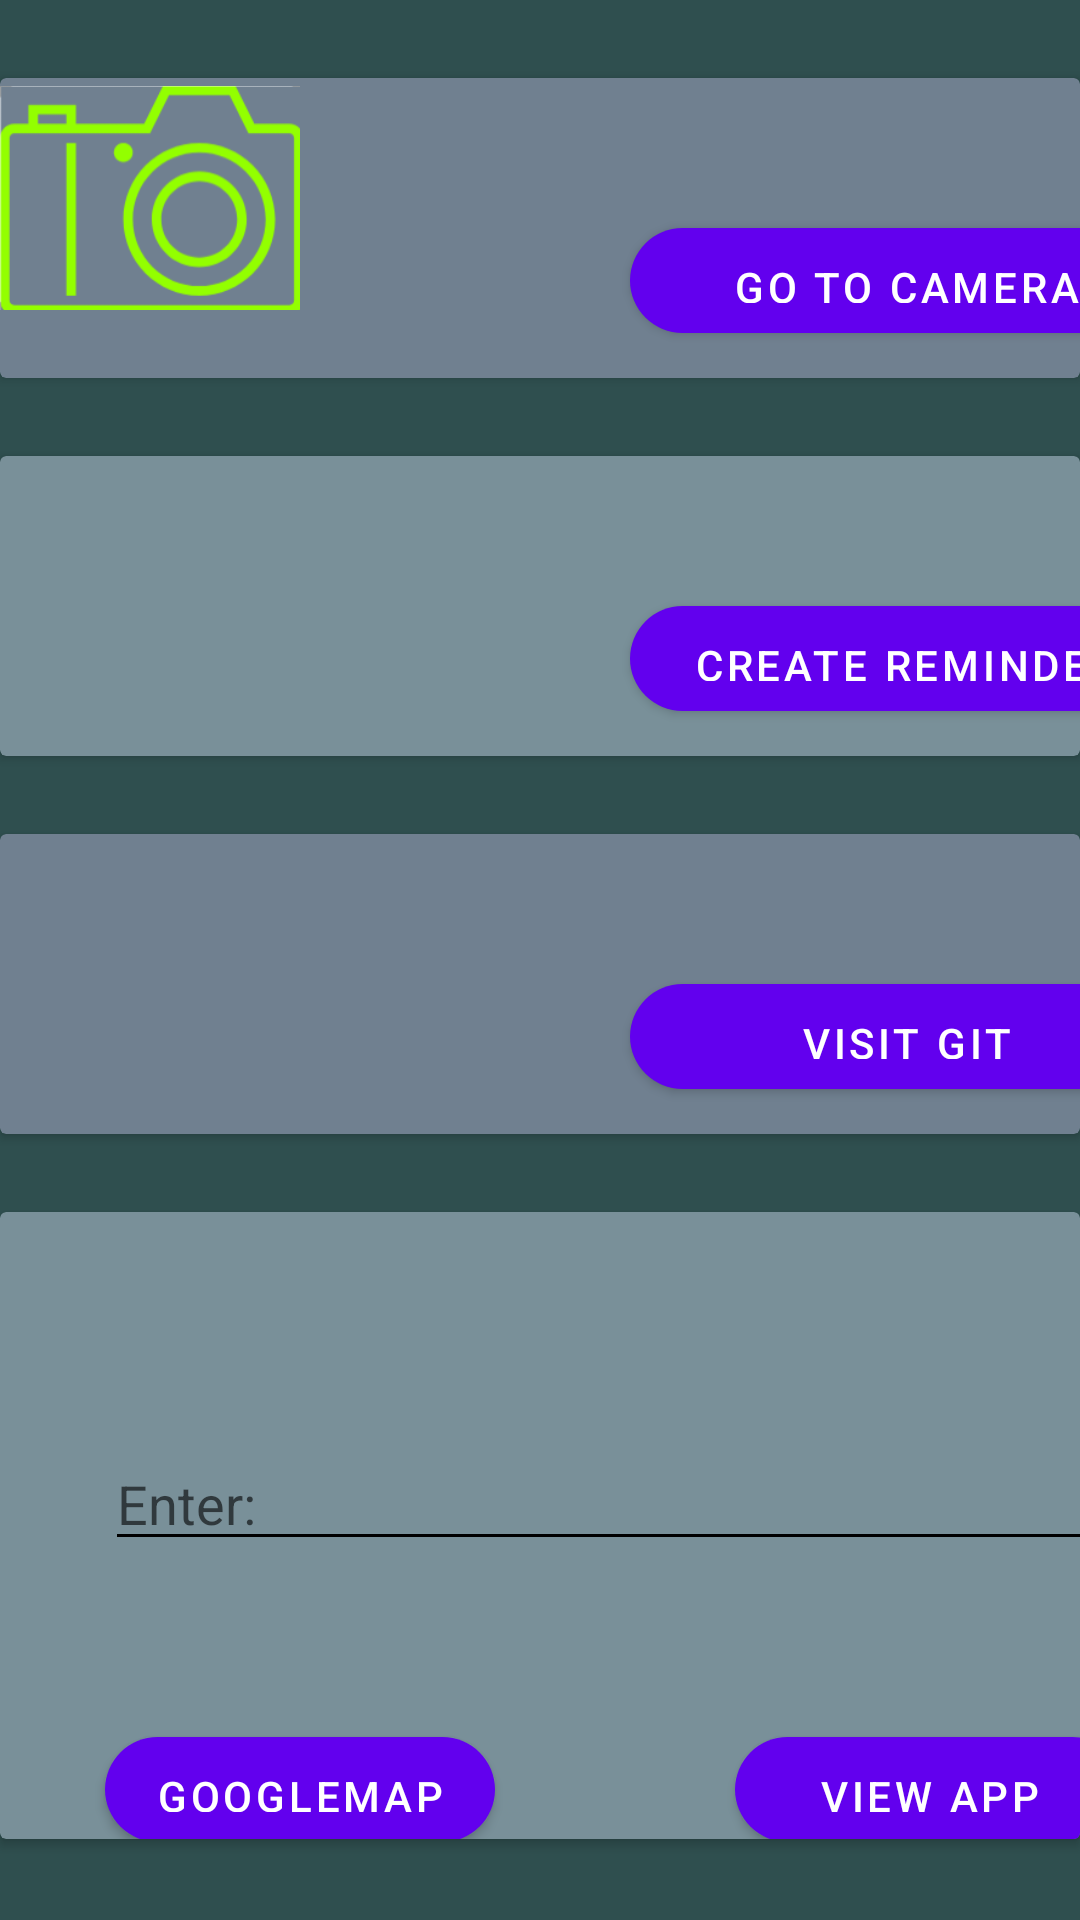

Named icons in this screenshot (1080x1920) and their centers, (x,y):
camera: (150,198)
